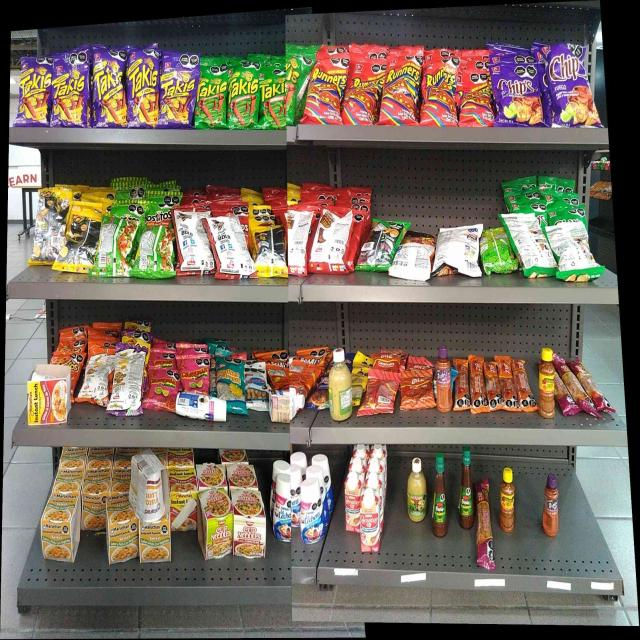bitzEnchilado90: (401, 372, 435, 409)
bitzEnchilado95: (517, 358, 535, 413), (500, 354, 515, 410), (470, 355, 484, 413), (454, 358, 469, 409), (486, 362, 499, 411)
bitzHabanero: (557, 355, 617, 418), (476, 486, 492, 567)
bokadosCacahuates: (310, 381, 327, 411)
botaneraChilito: (538, 348, 555, 418), (500, 467, 514, 529)
chipsFuego: (545, 46, 596, 128), (493, 63, 543, 126)
churrumais: (177, 355, 211, 391), (146, 368, 174, 410)
delPrimoSalsa: (330, 351, 351, 419), (408, 460, 426, 522)
leoCacahuates: (244, 365, 266, 412)
leoMix: (294, 349, 325, 376)
maruchanPollo: (42, 494, 75, 562), (108, 500, 138, 560), (82, 470, 104, 530), (140, 522, 171, 562)
maruchanRes: (26, 382, 68, 423), (173, 492, 196, 530)
nestleCarnation: (360, 486, 380, 552), (344, 476, 358, 530)
nestleLechera: (300, 482, 324, 544), (273, 477, 291, 541), (177, 394, 214, 419)
nissinCamaron: (198, 492, 232, 557)
nissinRes: (234, 487, 266, 557)
productoAtras: (174, 208, 212, 277), (512, 213, 548, 278), (551, 226, 595, 279), (96, 216, 133, 278), (213, 217, 250, 278), (62, 204, 94, 273), (112, 345, 143, 415), (314, 210, 347, 274), (437, 229, 479, 275), (139, 452, 168, 518), (362, 217, 396, 270), (136, 226, 170, 278), (38, 189, 61, 265), (252, 227, 286, 277), (82, 349, 110, 405), (288, 212, 311, 276), (481, 230, 510, 276), (397, 245, 432, 283), (365, 371, 397, 409)
runners: (383, 54, 419, 128), (346, 56, 381, 126), (421, 60, 457, 126), (459, 70, 492, 130), (311, 62, 342, 124)
salsaBufalo: (432, 454, 447, 535), (458, 450, 472, 528)
semillasGirasol: (216, 352, 242, 403)
tajinDulce: (542, 475, 560, 536), (437, 346, 452, 411)
takisFuego: (95, 46, 129, 126), (54, 57, 92, 127), (162, 53, 198, 126), (130, 49, 161, 126), (20, 58, 52, 128)
takisOriginal: (229, 66, 258, 129), (200, 63, 227, 127), (260, 76, 294, 125)
tostitos: (146, 200, 171, 223)
